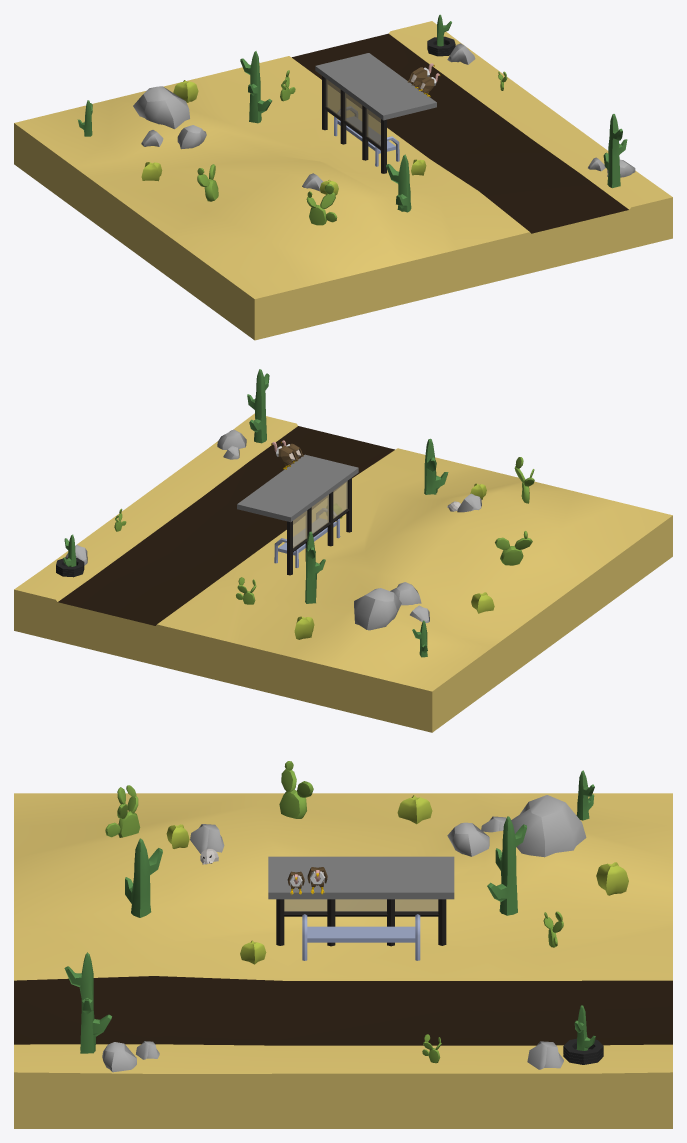
Rendered from desert.fbx.
The picture shows the model from 3 angles, top to bottom: view 1: azimuth 30°, elevation 25°; view 2: azimuth 150°, elevation 25°; view 3: azimuth 270°, elevation 25°; orthographic projection. The views are drawn at different scales.
Parts seen in each view (by area): view 1: pCube1, polySurface18, pCube53, polySurface16, polySurface12, pCube46, pCube25, polySurface20, pCube47, pCube11, pCube30, pCube27; view 2: pCube1, polySurface18, pCube53, polySurface16, polySurface12, pCube46, polySurface20, pCube25, pCube47, pCube27; view 3: pCube1, polySurface18, pCube53, polySurface20, polySurface16, pCube25, polySurface12, pCube46, pCube47, pCube27, pCube11, pCube30 (+7 smaller).
Part boxes in pixels (<box>): pCube1: <box>14,21,672,340</box>; polySurface18: <box>315,53,436,120</box>; pCube53: <box>133,86,189,129</box>; polySurface16: <box>322,76,386,173</box>; polySurface12: <box>326,79,380,146</box>; pCube46: <box>603,114,627,188</box>; pCube25: <box>240,51,271,123</box>; polySurface20: <box>334,106,399,166</box>; pCube47: <box>386,154,411,212</box>; pCube11: <box>306,184,337,225</box>; pCube30: <box>177,125,206,149</box>; pCube27: <box>197,164,218,201</box>; pCube1: <box>14,413,672,732</box>; polySurface18: <box>237,454,358,522</box>; pCube53: <box>354,588,401,630</box>; polySurface16: <box>287,478,351,575</box>; polySurface12: <box>293,481,347,548</box>; pCube46: <box>247,369,269,443</box>; polySurface20: <box>274,508,340,567</box>; pCube25: <box>305,531,325,603</box>; pCube47: <box>424,438,448,494</box>; pCube27: <box>495,531,532,565</box>; pCube1: <box>14,793,672,1128</box>; polySurface18: <box>268,856,454,899</box>; pCube53: <box>511,795,586,857</box>; polySurface20: <box>302,914,420,960</box>; polySurface16: <box>276,899,446,946</box>; pCube25: <box>487,816,526,915</box>; polySurface12: <box>284,899,438,911</box>; pCube46: <box>64,952,111,1053</box>; pCube47: <box>125,838,162,917</box>; pCube27: <box>279,761,313,818</box>; pCube11: <box>105,785,140,837</box>; pCube30: <box>447,822,489,856</box>.
Size of the model in its own units: 21 by 6.02 by 20.94.
